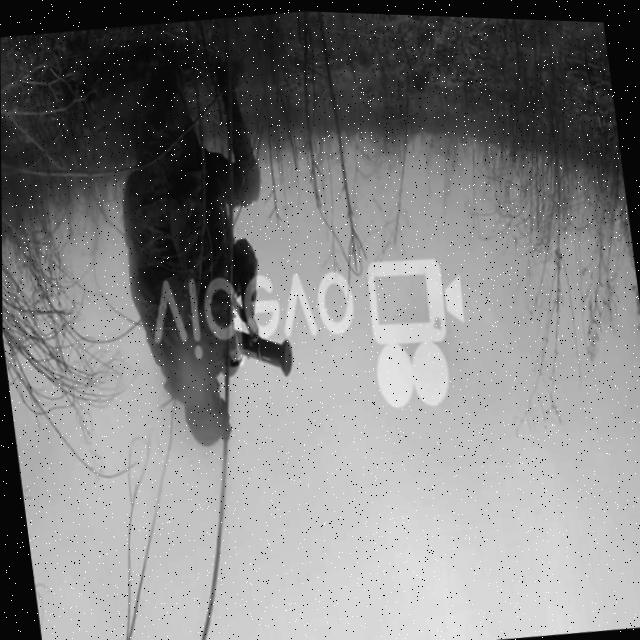rocket: (231, 308, 295, 379)
